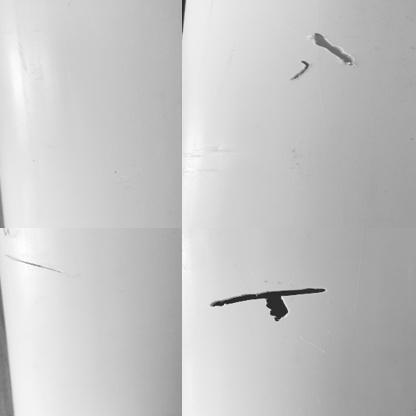fengxi: (204, 287, 339, 306), (315, 33, 358, 70), (288, 56, 310, 82)
kongdong: (262, 294, 293, 325)
sunshang: (4, 251, 68, 277)
